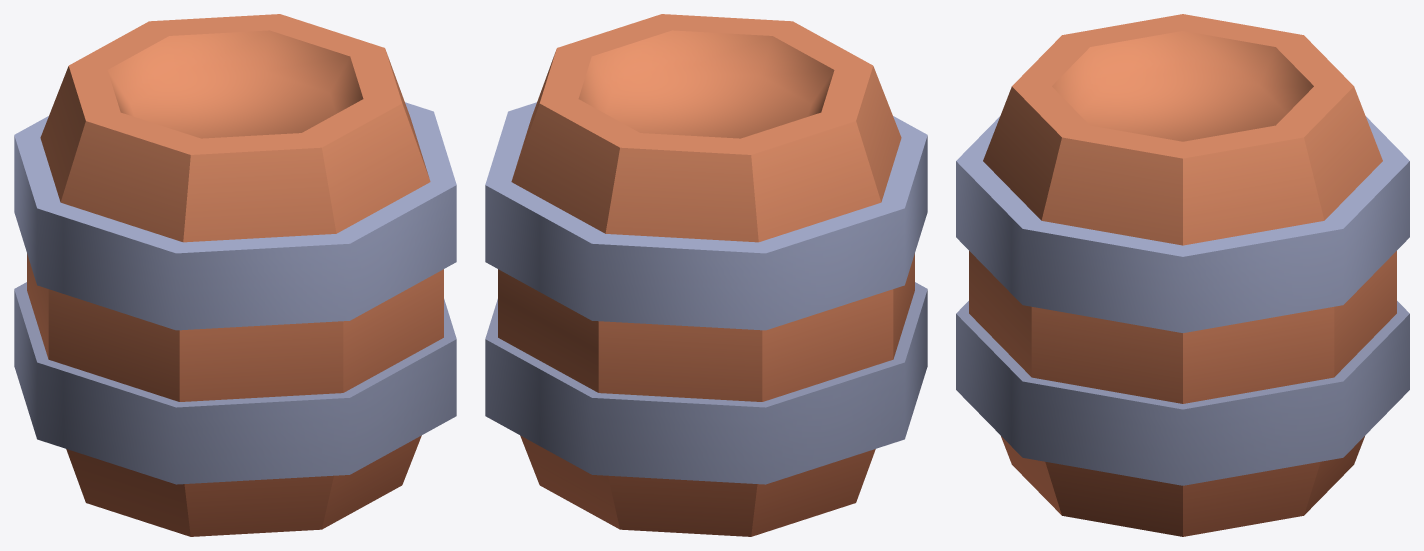
The model's file is barrel_0.fbx.
The picture shows the model from 3 angles, left to right: view 1: azimuth 30°, elevation 25°; view 2: azimuth 150°, elevation 25°; view 3: azimuth 270°, elevation 25°; orthographic projection.
Parts seen in each view (by area): view 1: barrel_0; view 2: barrel_0; view 3: barrel_0.
Boxes of the visible parts, box(x1,y1,x2,y2) form: barrel_0: box(14, 14, 456, 536); barrel_0: box(485, 14, 927, 536); barrel_0: box(956, 14, 1409, 536).
Bounding box in the file's own units: 1.34 × 1.23 × 1.34.
1 material, 1 textured.
